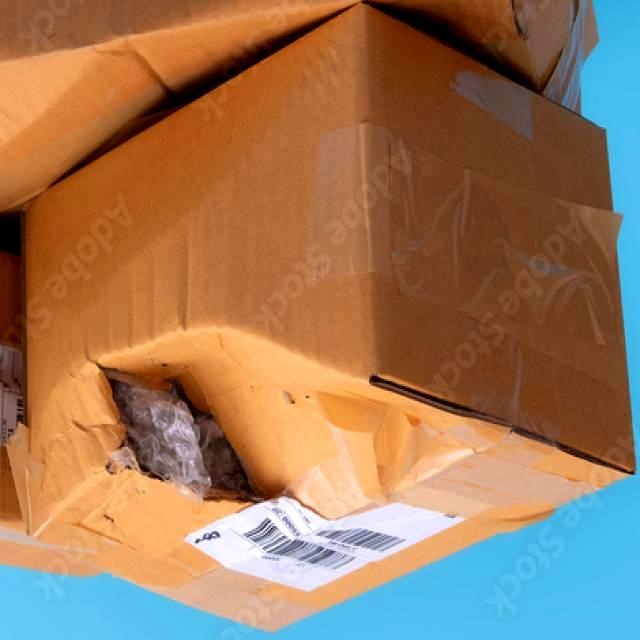Defect: (10, 4, 620, 619)
cut: (114, 383, 210, 496), (168, 385, 260, 500)
deform: (0, 0, 634, 629), (25, 6, 633, 501)
